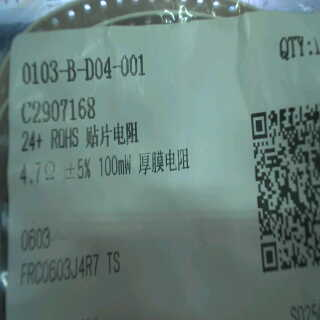4.7R: (17, 158, 59, 193)
